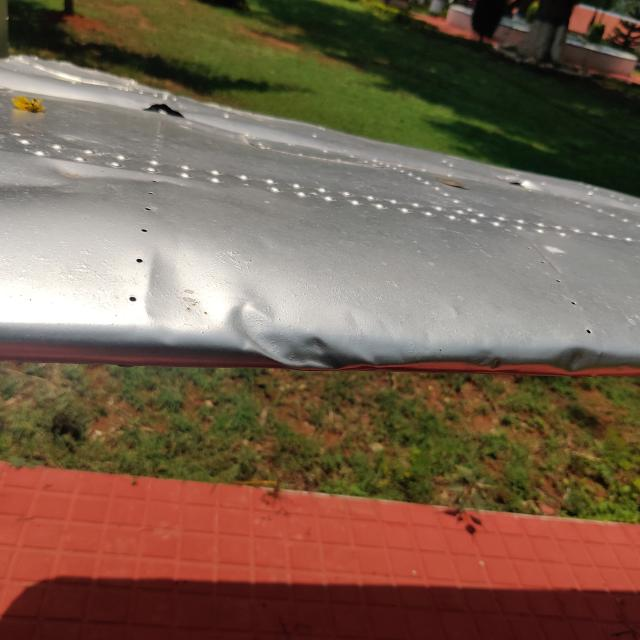dent: (224, 282, 384, 392), (0, 145, 198, 215), (542, 331, 604, 390)
